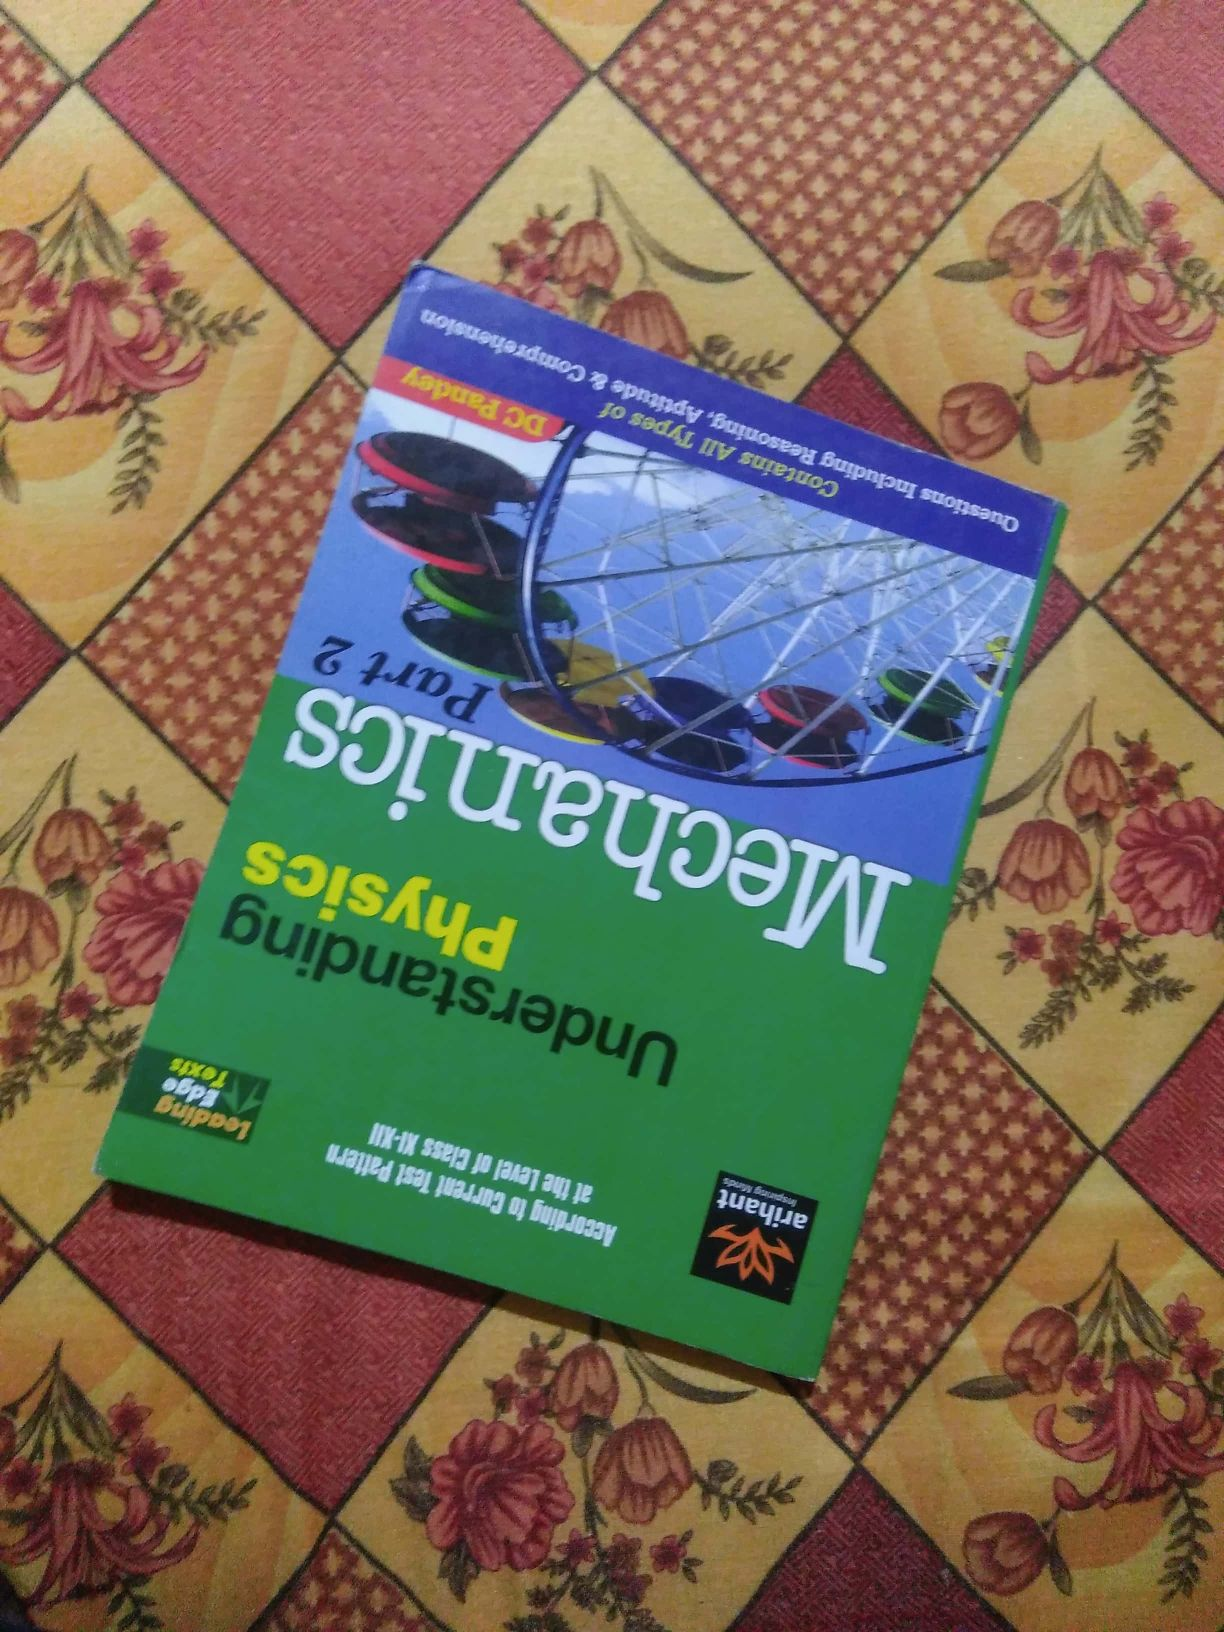mechanics: (175, 236, 1063, 1333)
